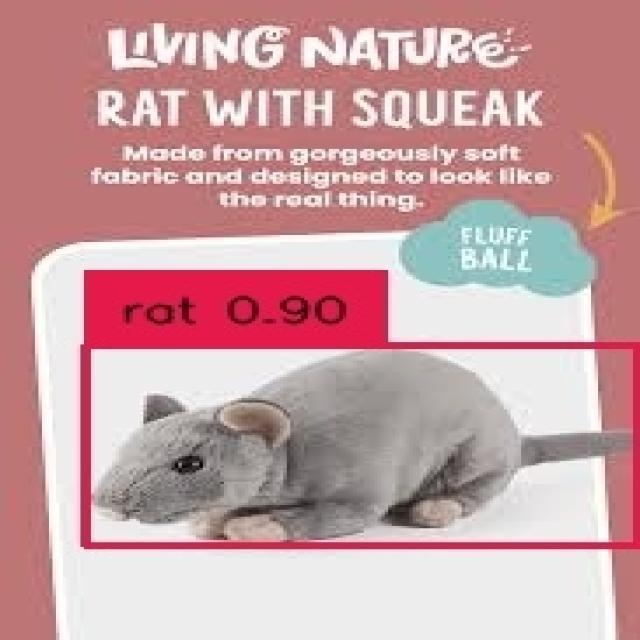rat: (80, 342, 633, 542)
